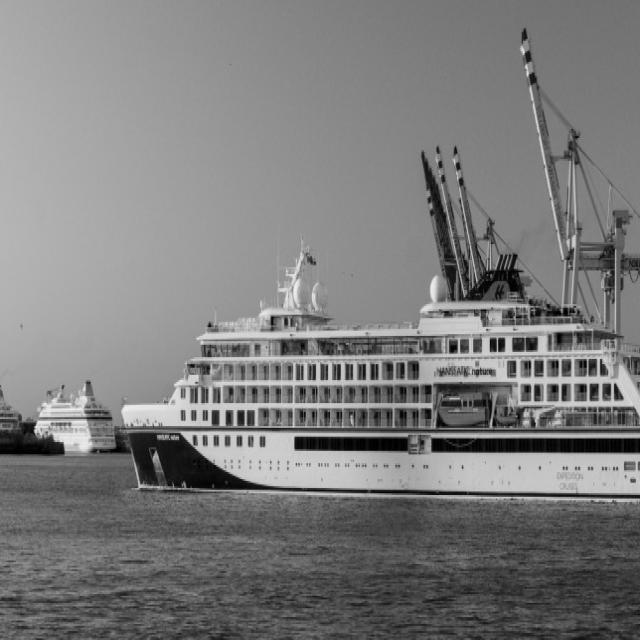cruises: (117, 235, 640, 523), (34, 372, 113, 457), (1, 376, 23, 438)
